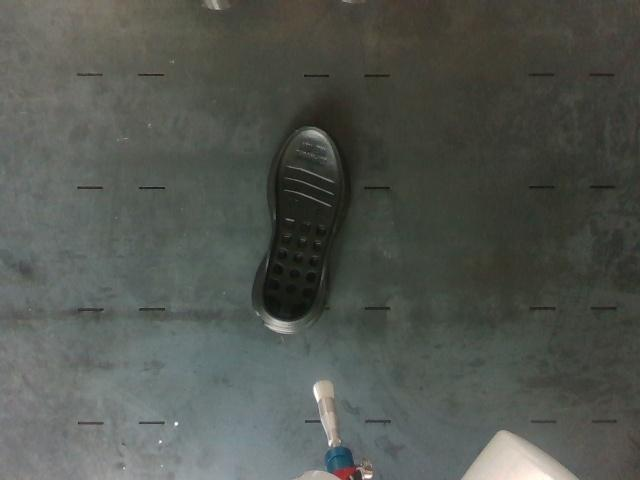shoes: (261, 130, 342, 322)
